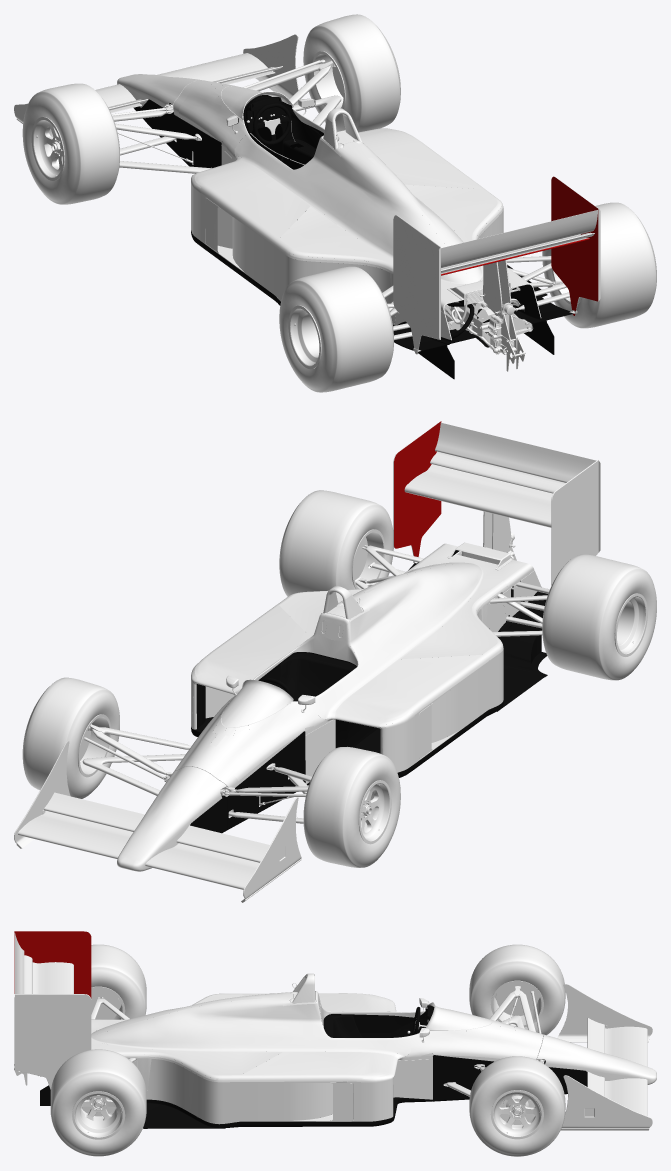
Rendered from car.glb.
The picture shows the model from 3 angles, top to bottom: view 1: azimuth 30°, elevation 25°; view 2: azimuth 150°, elevation 25°; view 3: azimuth 270°, elevation 25°; orthographic projection. The views are drawn at different scales.
Parts seen in each view (by area): view 1: 1988 mclaren; view 2: 1988 mclaren; view 3: 1988 mclaren.
Part boxes in pixels (left/top/right/bottom): 1988 mclaren: left=14, top=14, right=656, bottom=392; 1988 mclaren: left=14, top=421, right=656, bottom=902; 1988 mclaren: left=14, top=931, right=656, bottom=1156.
Size of the model in its own units: 9.09 by 4.19 by 18.54.
